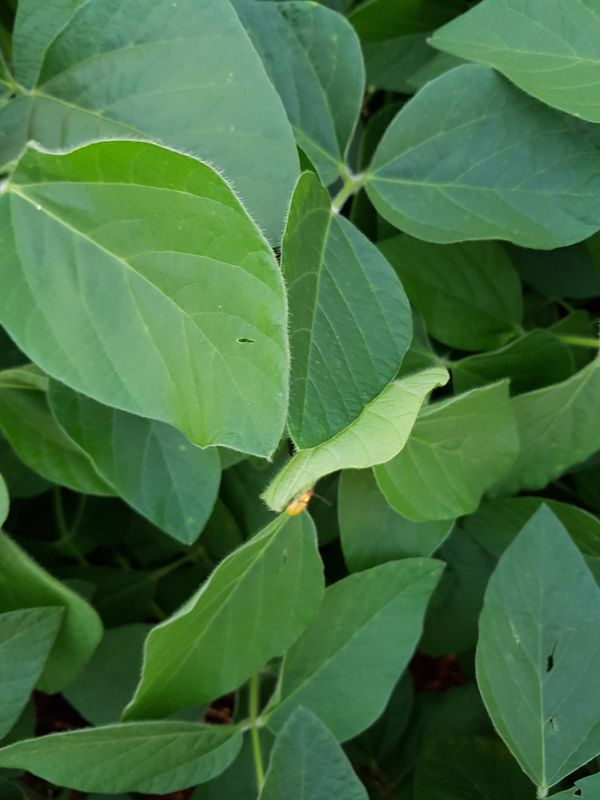Diabrotica_speciosa: (278, 481, 323, 526)
